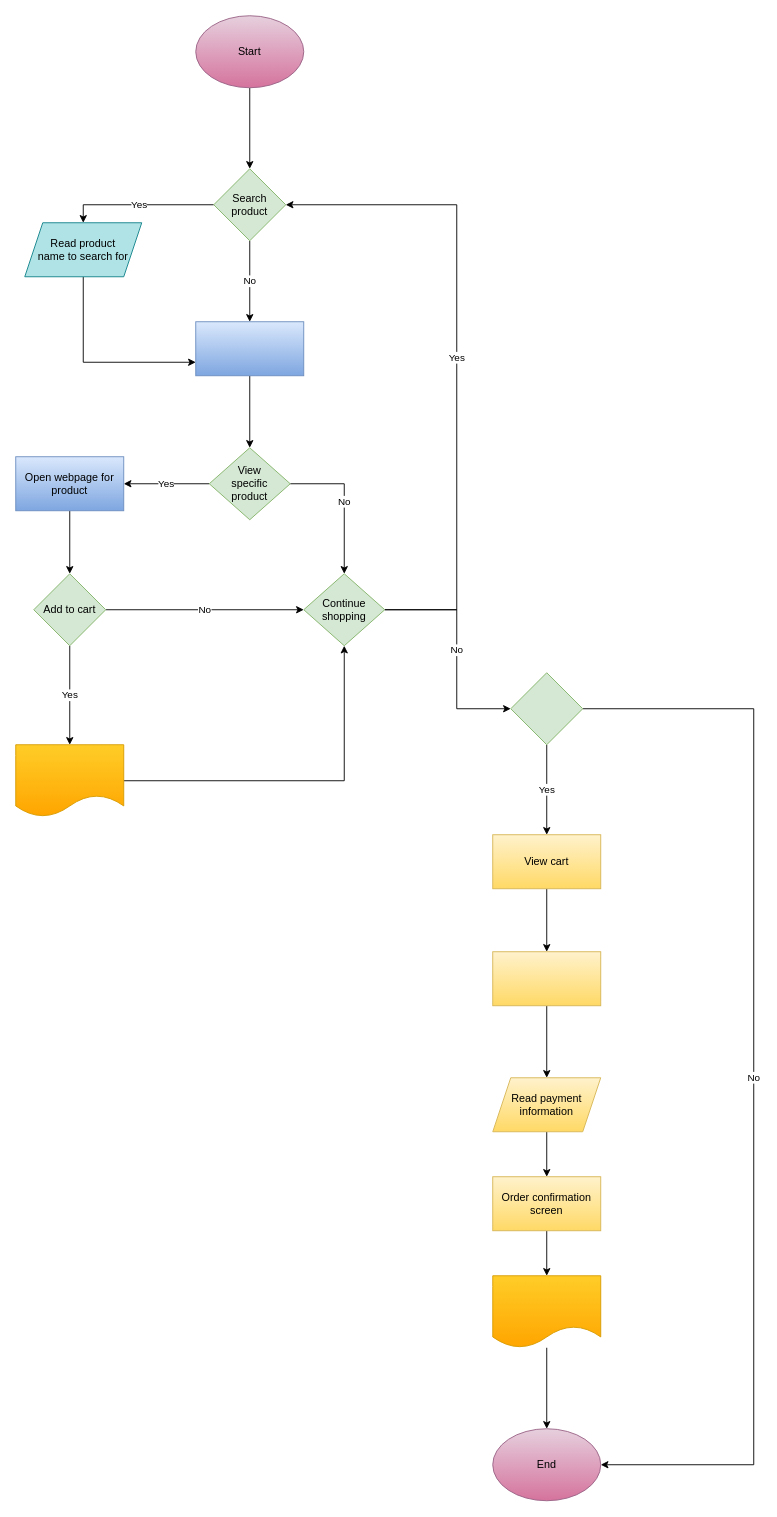
This 777x1517 diagram has some shape labels left out. The centre of each missing label's shape, as x and y in pixels:
"Added to cart confirmation receipt" belongs at [69,780].
"Checkout" belongs at [546,708].
"Look at products" belongs at [249,348].
"Order confirmation email" belongs at [546,1311].
"View payment" belongs at [546,978].
